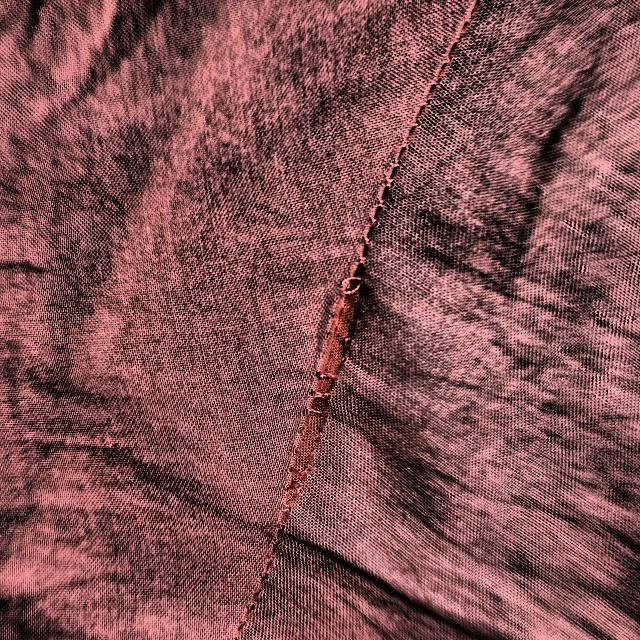seam: (255, 193, 436, 484)
